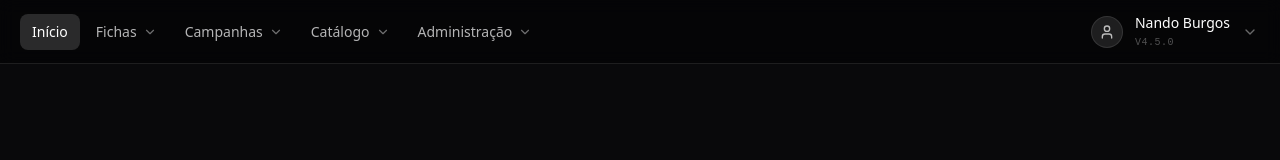
Test: GlassHeader (desktop) › mostra Campanhas Maddox com maddox.play e acompanha a troca de permissões
The width and height of the screenshot is (1280, 160).
Step 1. Click the button "Campanhas" → (234, 32), box [173, 14, 295, 50]
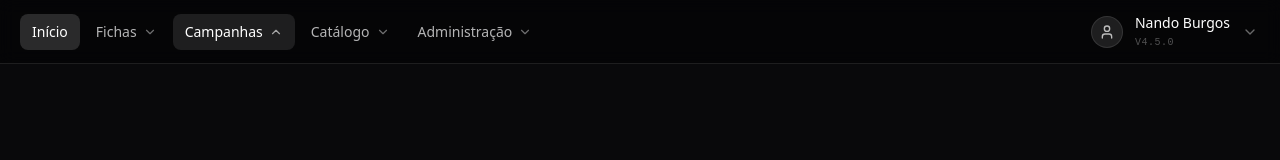
Step 2. Click the button "Administração" → (475, 32), box [406, 14, 544, 50]
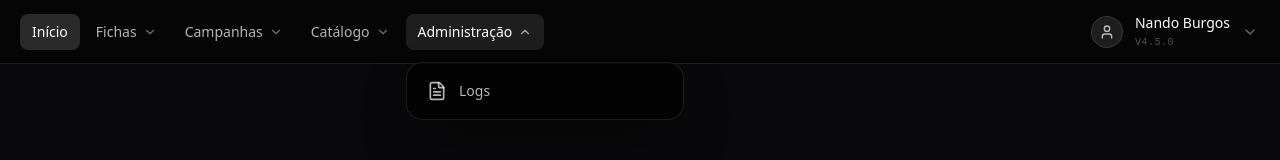
Expected: the links read "Logs", in this order, [427, 80, 490, 100]
